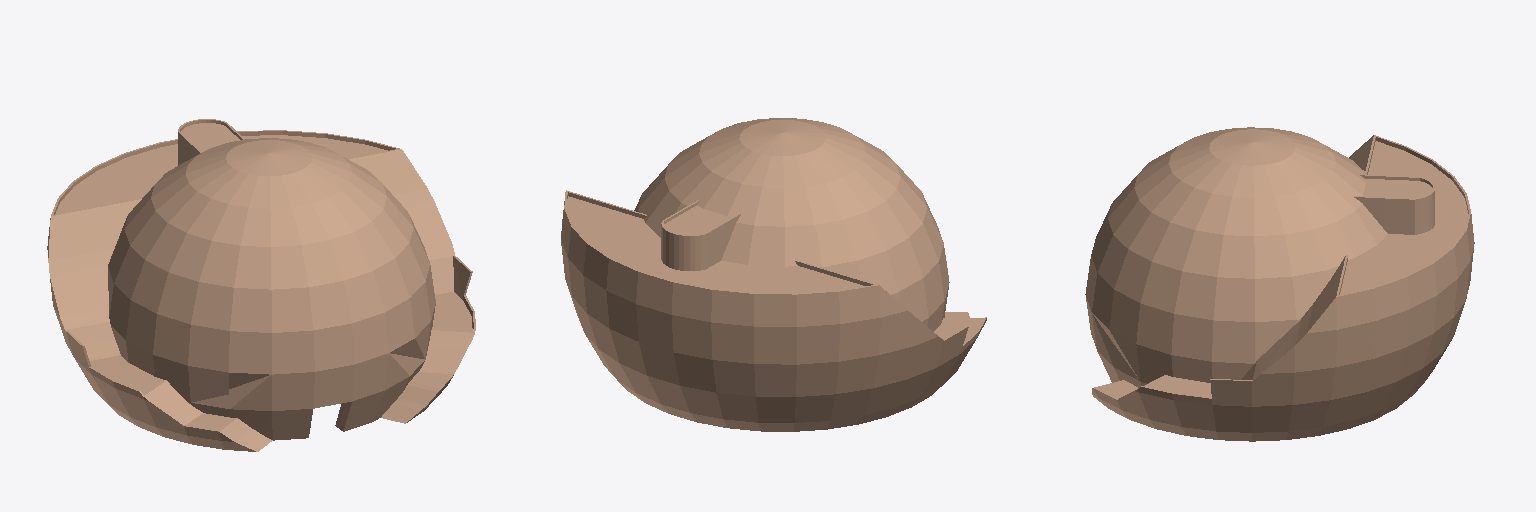
File: cecut.obj
The picture shows the model from 3 angles: view 1: azimuth 30°, elevation 25°; view 2: azimuth 150°, elevation 25°; view 3: azimuth 270°, elevation 25°; orthographic projection.
Parts seen in each view (by area): view 1: ID1030.1; view 2: ID1030.1; view 3: ID1030.1.
Part boxes in pixels (left/top/right/bottom): ID1030.1: left=47, top=119, right=475, bottom=451; ID1030.1: left=561, top=118, right=986, bottom=431; ID1030.1: left=1085, top=127, right=1474, bottom=441.
Size of the model in its own units: 3891 by 2250 by 3503.